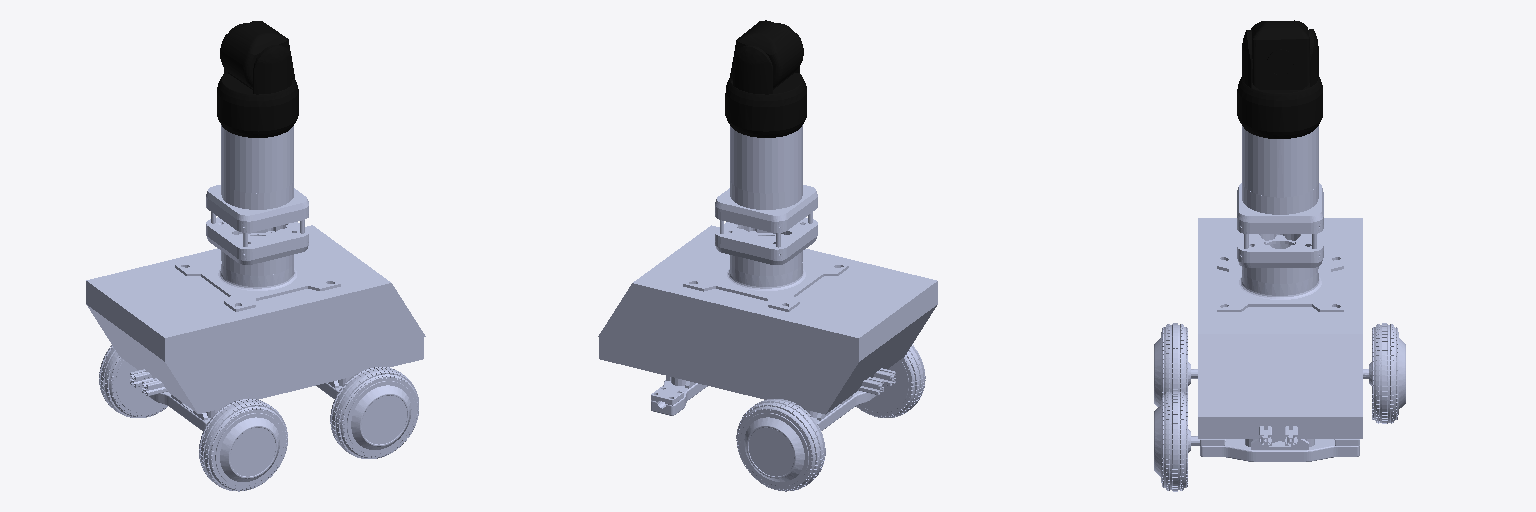
robot.urdf — robotic_rover_v2:
<?xml version="1.0" encoding="utf-8"?>
<!-- This URDF was automatically created by SolidWorks to URDF Exporter! Originally created by [author] ([email redacted]) 
     Commit Version: 1.6.0-1-g15f4949  Build Version: 1.6.7594.29634
     For more information, please see http://wiki.ros.org/sw_urdf_exporter -->
<robot
  name="robotic_rover_v2">
  <link
    name="base_link">
    <inertial>
      <origin
        xyz="0.00288019470806633 -0.000211925177966518 -0.0766640863813122"
        rpy="0 0 0" />
      <mass
        value="3.71040926678499" />
      <inertia
        ixx="0.0167844564017488"
        ixy="-1.07692897623941E-11"
        ixz="0.00235394878307024"
        iyy="0.0337995641876472"
        iyz="-4.76502166609136E-11"
        izz="0.044705779719472" />
    </inertial>
    <visual>
      <origin
        xyz="0 0 0"
        rpy="0 0 0" />
      <geometry>
        <mesh
          filename="package://robotic_rover_v2/meshes/base_link.STL" />
      </geometry>
      <material
        name="">
        <color
          rgba="0.792156862745098 0.819607843137255 0.933333333333333 1" />
      </material>
    </visual>
    <collision>
      <origin
        xyz="0 0 0"
        rpy="0 0 0" />
      <geometry>
        <mesh
          filename="package://robotic_rover_v2/meshes/base_link.STL" />
      </geometry>
    </collision>
  </link>
  <link
    name="FL_link">
    <inertial>
      <origin
        xyz="-5.696E-06 -0.031736 -4.1427E-06"
        rpy="0 0 0" />
      <mass
        value="0.32782" />
      <inertia
        ixx="0.00076691"
        ixy="-1.0707E-07"
        ixz="8.3692E-09"
        iyy="0.0013622"
        iyz="-7.7869E-08"
        izz="0.00076691" />
    </inertial>
    <visual>
      <origin
        xyz="0 0 0"
        rpy="0 0 0" />
      <geometry>
        <mesh
          filename="package://robotic_rover_v2/meshes/FL_link.STL" />
      </geometry>
      <material
        name="">
        <color
          rgba="0.79216 0.81961 0.93333 1" />
      </material>
    </visual>
    <collision>
      <origin
        xyz="0 0 0"
        rpy="0 0 0" />
      <geometry>
        <mesh
          filename="package://robotic_rover_v2/meshes/FL_link.STL" />
      </geometry>
    </collision>
  </link>
  <joint
    name="FL_joint"
    type="continuous">
    <origin
      xyz="0.12743 0.19546 -0.255"
      rpy="0 0 0" />
    <parent
      link="base_link" />
    <child
      link="FL_link" />
    <axis
      xyz="0 1 0" />
    <limit
      effort="1"
      velocity="1" />
  </joint>
  <link
    name="FR_link">
    <inertial>
      <origin
        xyz="6.2034E-06 0.031736 -3.3353E-06"
        rpy="0 0 0" />
      <mass
        value="0.32782" />
      <inertia
        ixx="0.00076691"
        ixy="-1.1661E-07"
        ixz="-7.3383E-09"
        iyy="0.0013622"
        iyz="6.2692E-08"
        izz="0.0007669" />
    </inertial>
    <visual>
      <origin
        xyz="0 0 0"
        rpy="0 0 0" />
      <geometry>
        <mesh
          filename="package://robotic_rover_v2/meshes/FR_link.STL" />
      </geometry>
      <material
        name="">
        <color
          rgba="0.79216 0.81961 0.93333 1" />
      </material>
    </visual>
    <collision>
      <origin
        xyz="0 0 0"
        rpy="0 0 0" />
      <geometry>
        <mesh
          filename="package://robotic_rover_v2/meshes/FR_link.STL" />
      </geometry>
    </collision>
  </link>
  <joint
    name="FR_joint"
    type="continuous">
    <origin
      xyz="0.12743 -0.19654 -0.255"
      rpy="0 0 0" />
    <parent
      link="base_link" />
    <child
      link="FR_link" />
    <axis
      xyz="0 1 0" />
    <limit
      effort="1"
      velocity="1" />
  </joint>
  <link
    name="RL_link">
    <inertial>
      <origin
        xyz="-5.696E-06 -0.031736 -4.1427E-06"
        rpy="0 0 0" />
      <mass
        value="0.32782" />
      <inertia
        ixx="0.00076691"
        ixy="-1.0707E-07"
        ixz="8.3692E-09"
        iyy="0.0013622"
        iyz="-7.7869E-08"
        izz="0.00076691" />
    </inertial>
    <visual>
      <origin
        xyz="0 0 0"
        rpy="0 0 0" />
      <geometry>
        <mesh
          filename="package://robotic_rover_v2/meshes/RL_link.STL" />
      </geometry>
      <material
        name="">
        <color
          rgba="0.79216 0.81961 0.93333 1" />
      </material>
    </visual>
    <collision>
      <origin
        xyz="0 0 0"
        rpy="0 0 0" />
      <geometry>
        <mesh
          filename="package://robotic_rover_v2/meshes/RL_link.STL" />
      </geometry>
    </collision>
  </link>
  <joint
    name="RL_joint"
    type="continuous">
    <origin
      xyz="-0.12257 0.19546 -0.255"
      rpy="0 0 0" />
    <parent
      link="base_link" />
    <child
      link="RL_link" />
    <axis
      xyz="0 1 0" />
    <limit
      effort="1"
      velocity="1" />
  </joint>
  <link
    name="RR_link">
    <inertial>
      <origin
        xyz="5.69600275126744E-06 0.0317356327821493 -4.14269968324055E-06"
        rpy="0 0 0" />
      <mass
        value="0.327820252904827" />
      <inertia
        ixx="0.000766910536909882"
        ixy="-1.07067782648883E-07"
        ixz="-8.36920474953515E-09"
        iyy="0.00136217375557932"
        iyz="7.78694147343924E-08"
        izz="0.000766905116862553" />
    </inertial>
    <visual>
      <origin
        xyz="0 0 0"
        rpy="0 0 0" />
      <geometry>
        <mesh
          filename="package://robotic_rover_v2/meshes/RR_link.STL" />
      </geometry>
      <material
        name="">
        <color
          rgba="0.792156862745098 0.819607843137255 0.933333333333333 1" />
      </material>
    </visual>
    <collision>
      <origin
        xyz="0 0 0"
        rpy="0 0 0" />
      <geometry>
        <mesh
          filename="package://robotic_rover_v2/meshes/RR_link.STL" />
      </geometry>
    </collision>
  </link>
  <joint
    name="RR_joint"
    type="continuous">
    <origin
      xyz="-0.12257 -0.19654 -0.255"
      rpy="0 0 0" />
    <parent
      link="base_link" />
    <child
      link="RR_link" />
    <axis
      xyz="0 1 0" />
    <limit
      effort="1"
      velocity="1" />
  </joint>
  <link
    name="PC_link">
    <inertial>
      <origin
        xyz="2.36961184896245E-07 -3.14818393576388E-09 0.0025363637777846"
        rpy="0 0 0" />
      <mass
        value="1.36978206231541" />
      <inertia
        ixx="0.00325430497516609"
        ixy="8.99082311966181E-06"
        ixz="1.15512444398116E-07"
        iyy="0.00298770398071154"
        iyz="5.67398108801383E-09"
        izz="0.00294673225604954" />
    </inertial>
    <visual>
      <origin
        xyz="0 0 0"
        rpy="0 0 0" />
      <geometry>
        <mesh
          filename="package://robotic_rover_v2/meshes/PC_link.STL" />
      </geometry>
      <material
        name="">
        <color
          rgba="0.101960784313725 0.101960784313725 0.101960784313725 1" />
      </material>
    </visual>
    <collision>
      <origin
        xyz="0 0 0"
        rpy="0 0 0" />
      <geometry>
        <mesh
          filename="package://robotic_rover_v2/meshes/PC_link.STL" />
      </geometry>
    </collision>
  </link>
  <joint
    name="PC_joint"
    type="continuous">
    <origin
      xyz="0 0 0.27315"
      rpy="0 0 0" />
    <parent
      link="base_link" />
    <child
      link="PC_link" />
    <axis
      xyz="0 0 -1" />
    <limit
      effort="1"
      velocity="1" />
    <dynamics
      friction="0.1" />
  </joint>
  <link
    name="TC_link">
    <inertial>
      <origin
        xyz="0.000469775342715889 -0.0450102813550136 -0.00221971869479293"
        rpy="0 0 0" />
      <mass
        value="0.669748057317673" />
      <inertia
        ixx="0.000853932783644777"
        ixy="1.25962044388129E-06"
        ixz="3.31682759107268E-05"
        iyy="0.000816893642756301"
        iyz="1.13569368206194E-06"
        izz="0.000818648983044738" />
    </inertial>
    <visual>
      <origin
        xyz="0 0 0"
        rpy="0 0 0" />
      <geometry>
        <mesh
          filename="package://robotic_rover_v2/meshes/TC_link.STL" />
      </geometry>
      <material
        name="">
        <color
          rgba="0.101960784313725 0.101960784313725 0.101960784313725 1" />
      </material>
    </visual>
    <collision>
      <origin
        xyz="0 0 0"
        rpy="0 0 0" />
      <geometry>
        <mesh
          filename="package://robotic_rover_v2/meshes/TC_link.STL" />
      </geometry>
    </collision>
  </link>
  <joint
    name="TC_joint"
    type="continuous">
    <origin
      xyz="-0.001518 0.044974 0.084851"
      rpy="0 0 0" />
    <parent
      link="PC_link" />
    <child
      link="TC_link" />
    <axis
      xyz="-0.033733 0.99943 0" />
    <limit
      effort="1"
      velocity="1" />
    <dynamics
      friction="0.1" />
  </joint>

   <gazebo>
    <plugin name="skid_steer_drive_controller" filename="libgazebo_ros_skid_steer_drive.so">
      <updateRate>100.0</updateRate>
      <robotNamespace>/</robotNamespace>
      <leftFrontJoint>FL_joint</leftFrontJoint>
      <rightFrontJoint>FR_joint</rightFrontJoint>
      <leftRearJoint>RL_joint</leftRearJoint>
      <rightRearJoint>RR_joint</rightRearJoint>
      <wheelSeparation>0.3</wheelSeparation>
      <wheelDiameter>0.15</wheelDiameter>
      <robotBaseFrame>base_link</robotBaseFrame>
      <torque>20</torque>
      <commandTopic>cmd_vel</commandTopic>
      <broadcastTF>true</broadcastTF>
      <odometryTopic>odom</odometryTopic>
      <odometryFrame>odom</odometryFrame>
      <covariance_x>0.001</covariance_x> <!-- 0.0001 -->
      <covariance_y>0.001</covariance_y> <!-- 0.0001 -->
      <covariance_yaw>0.01</covariance_yaw> <!-- 0.01 -->
    </plugin>
  </gazebo>

  <!-- IMU -->

  <joint name="imu_joint" type="fixed">
    <parent link="base_link"/>
    <child link="imu_link"/>
    <origin xyz="0 0 0" rpy="0 0 0"/>
  </joint>

  <link name="imu_link"/>
  
  <gazebo reference="imu_link">
    <sensor type="imu" name="imu">
      <always_on>true</always_on>
      <visualize>true</visualize>
    </sensor>
    <material>Gazebo/FlatBlack</material>
  </gazebo>

  <gazebo>
    <plugin name="imu_plugin" filename="libgazebo_ros_imu.so">
      <alwaysOn>true</alwaysOn>
      <bodyName>imu_link</bodyName>
      <frameName>imu_link</frameName>
      <topicName>imu</topicName>
      <serviceName>imu_service</serviceName>
      <gaussianNoise>0.0</gaussianNoise>
      <updateRate>0</updateRate>
      <imu>
        <noise>
          <type>gaussian</type>
          <rate>
            <mean>0.0</mean>
            <stddev>2e-4</stddev>
            <bias_mean>0.0000075</bias_mean>
            <bias_stddev>0.0000008</bias_stddev>
          </rate>
          <accel>
            <mean>0.0</mean>
            <stddev>1.7e-2</stddev>
            <bias_mean>0.1</bias_mean>
            <bias_stddev>0.001</bias_stddev>
          </accel>
        </noise>
      </imu>
    </plugin>
  </gazebo>

  <!-- Lidar -->
  <link name="base_scan">
    <visual>
      <origin xyz="0 0 0.0" rpy="0 0 0"/>
      <geometry>
        <mesh filename="package://turtlebot3_description/meshes/sensors/lds.stl" scale="0.001 0.001 0.001"/>
      </geometry>
      <material name="dark"/>
    </visual>

    <collision>
      <origin xyz="0.015 0 -0.0065" rpy="0 0 0"/>
      <geometry>
        <cylinder length="0.0315" radius="0.055"/>
      </geometry>
    </collision>

    <inertial>
      <mass value="0.114" />
      <origin xyz="0 0 0" />
      <inertia ixx="0.001" ixy="0.0" ixz="0.0"
               iyy="0.001" iyz="0.0"
               izz="0.001" />
    </inertial>
  </link>

  <joint name="scan_joint" type="fixed">
    <parent link="base_link"/>
    <child link="base_scan"/>
    <origin xyz="-0.012 0 0.052" rpy="0 0 0"/>
  </joint>

  <gazebo reference="base_scan">
    <material>Gazebo/FlatBlack</material>
    <sensor type="ray" name="lds_lfcd_sensor">
      <pose>0 0 0 0 0 0</pose>
      <visualize>false</visualize>
      <update_rate>5</update_rate>
      <ray>
        <scan>
          <horizontal>
            <samples>360</samples>
            <resolution>1</resolution>
            <min_angle>0.0</min_angle>
            <max_angle>6.28319</max_angle>
          </horizontal>
        </scan>
        <range>
          <min>0.120</min>
          <max>3.5</max>
          <resolution>0.015</resolution>
        </range>
        <noise>
          <type>gaussian</type>
          <mean>0.0</mean>
          <stddev>0.01</stddev>
        </noise>
      </ray>
      <plugin name="gazebo_ros_lds_lfcd_controller" filename="libgazebo_ros_laser.so">
        <topicName>scan</topicName>
        <frameName>base_scan</frameName>
      </plugin>
    </sensor>
  </gazebo>


  <!-- Camera -->
  <gazebo reference="TC_link">
    <material>Gazebo/Black</material>
  </gazebo>
 <gazebo reference="PC_link">
    <material>Gazebo/Black</material>
  </gazebo>


  <!-- Wheels -->
  <gazebo reference="FL_link">
    <material>Gazebo/DarkGrey</material>
  </gazebo>
  <gazebo reference="FR_link">
    <material>Gazebo/DarkGrey</material>
  </gazebo>
  <gazebo reference="RL_link">
    <material>Gazebo/DarkGrey</material>
  </gazebo>
  <gazebo reference="RR_link">
    <material>Gazebo/DarkGrey</material>
  </gazebo>

  <!-- Main -->
  <gazebo reference="base_link">
    <material>Gazebo/White</material>
  </gazebo>

  
</robot>

--- Render facts (derived) ---
The picture shows the robot from 3 angles, left to right: view 1: azimuth 30°, elevation 25°; view 2: azimuth 150°, elevation 25°; view 3: azimuth 270°, elevation 25°; orthographic projection.
Robot: robotic_rover_v2 — 9 links, 8 joints (6 continuous, 2 fixed); root link base_link; default pose: every joint at zero.
Links seen in each view (by area): view 1: base_link, RR_link, FR_link, PC_link, TC_link, RL_link; view 2: base_link, RL_link, PC_link, RR_link, TC_link; view 3: base_link, PC_link, TC_link, FR_link, RL_link, RR_link.
Boxes of the visible links, bbox=[...] form: base_link: bbox=[86, 125, 425, 430]; RR_link: bbox=[199, 399, 287, 491]; FR_link: bbox=[330, 367, 418, 458]; PC_link: bbox=[217, 23, 298, 137]; TC_link: bbox=[220, 21, 294, 89]; RL_link: bbox=[99, 345, 167, 417]; base_link: bbox=[598, 125, 937, 430]; RL_link: bbox=[736, 399, 825, 491]; PC_link: bbox=[725, 23, 806, 137]; RR_link: bbox=[856, 344, 925, 417]; TC_link: bbox=[730, 20, 803, 89]; base_link: bbox=[1198, 126, 1362, 461]; PC_link: bbox=[1237, 29, 1322, 138]; TC_link: bbox=[1251, 20, 1309, 89]; FR_link: bbox=[1154, 391, 1225, 491]; RL_link: bbox=[1363, 323, 1405, 423]; RR_link: bbox=[1154, 323, 1197, 406].
Size in the robot's own frame: 0.5235 by 0.394 by 0.7419 metres.
Meshes: 8 distinct files referenced, 6 mesh visuals loaded (6 binary STL); not drawn: 2 (reference not matched to a file when rendering).
